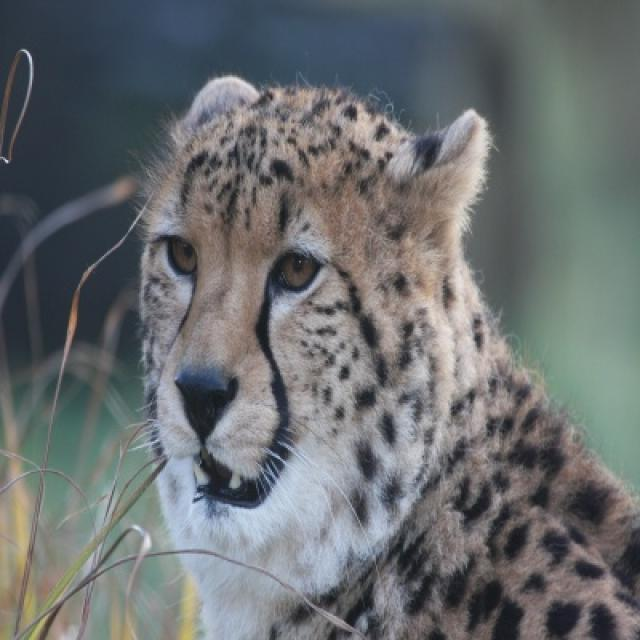Cheetah: (123, 77, 638, 638)
